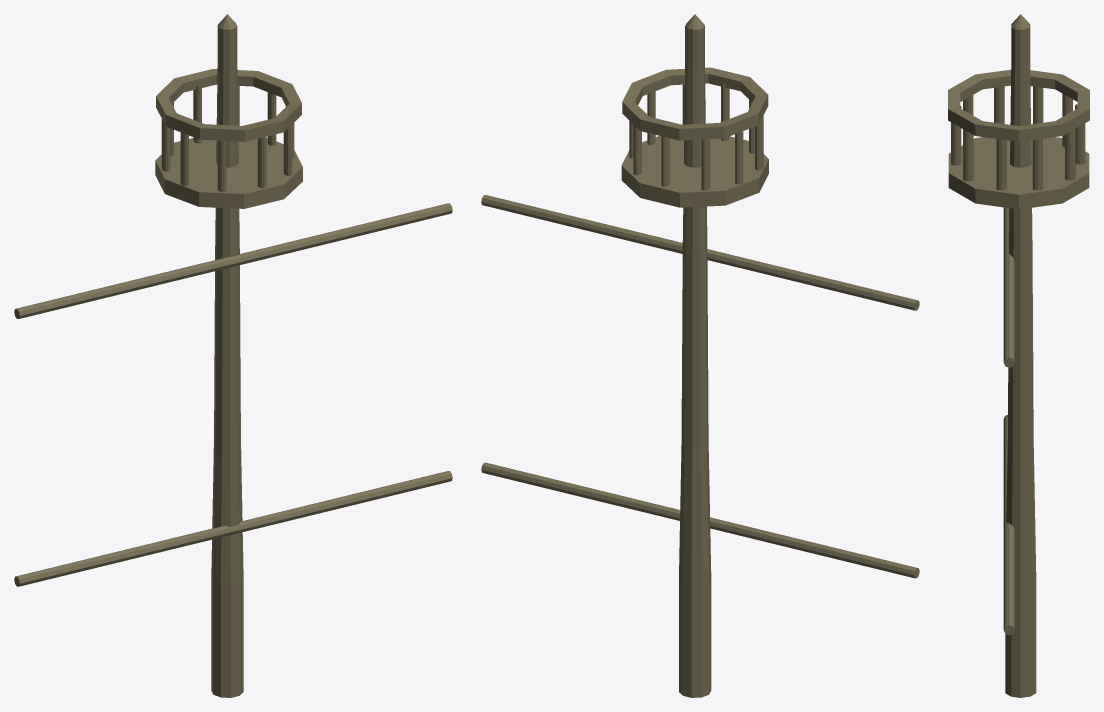
File: Palos.fbx
The picture shows the model from 3 angles, left to right: view 1: azimuth 30°, elevation 25°; view 2: azimuth 150°, elevation 25°; view 3: azimuth 270°, elevation 25°; orthographic projection.
Parts seen in each view (by area): view 1: polySurface2; view 2: polySurface2; view 3: polySurface2.
Part boxes in pixels (x1=…): polySurface2: x1=14, y1=14, x2=452, y2=697; polySurface2: x1=481, y1=14, x2=919, y2=697; polySurface2: x1=948, y1=14, x2=1089, y2=697.
Bounding box in the file's own units: 3.21 × 4.8 × 0.91.
